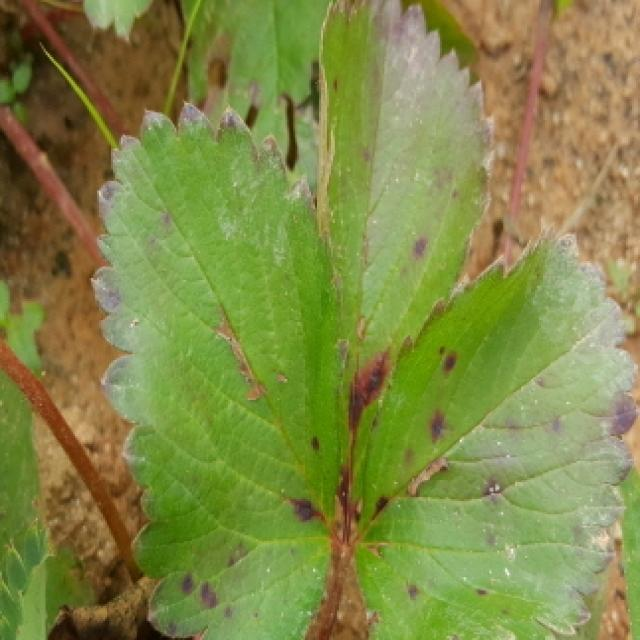Leaf Spot: (89, 97, 346, 640), (346, 228, 639, 640), (317, 0, 493, 450)
